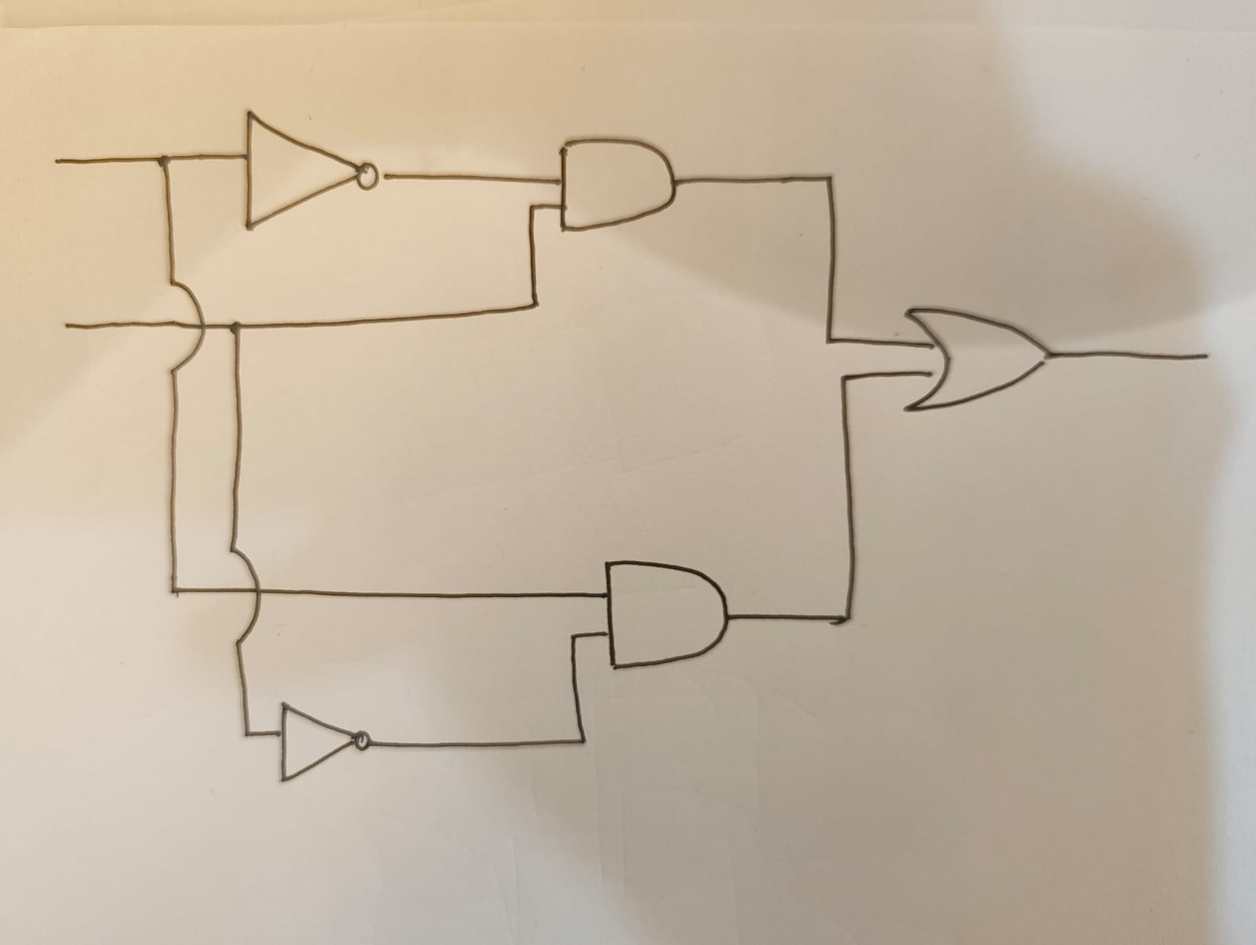and gate: (599, 556, 739, 678), (555, 134, 686, 237)
not gate: (240, 106, 384, 238), (277, 697, 379, 788)
or gate: (896, 307, 1060, 415)
